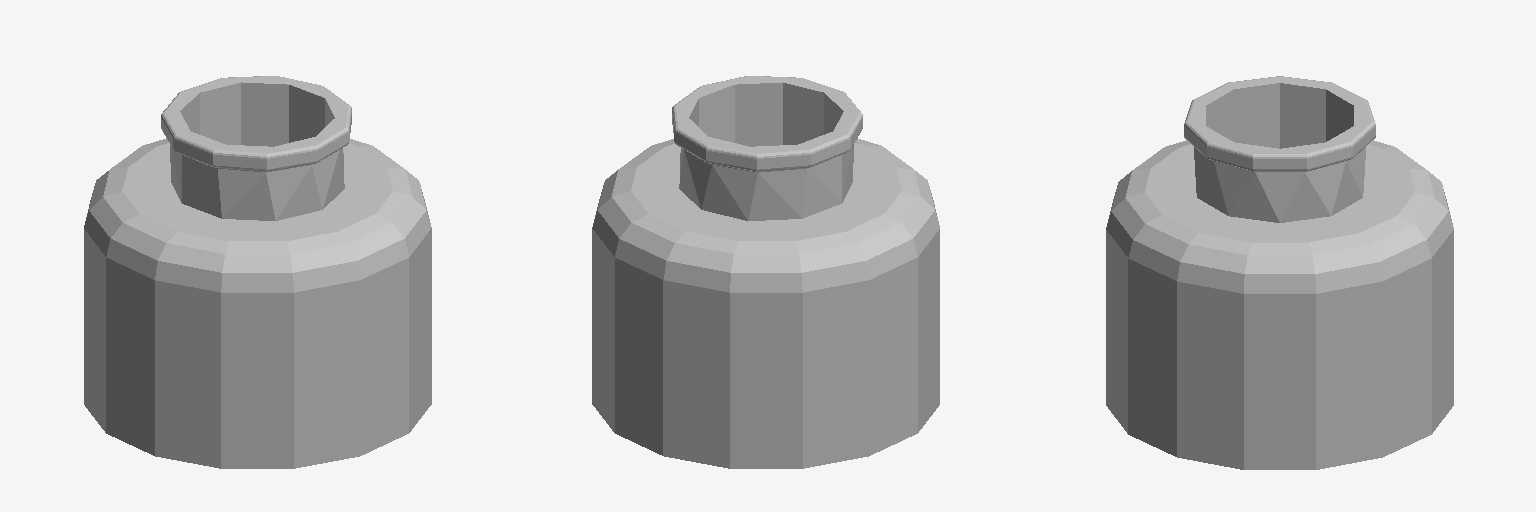
Rendered from Крышка.obj.
3 views of the same model, side by side, from view 1: azimuth 30°, elevation 25°; view 2: azimuth 150°, elevation 25°; view 3: azimuth 270°, elevation 25° (orthographic).
Parts seen in each view (by area): view 1: Крышка; view 2: Крышка; view 3: Крышка.
Part boxes in pixels (x1,y1,x2,y2): Крышка: (84, 76, 431, 468); Крышка: (592, 76, 939, 468); Крышка: (1106, 76, 1453, 469).
Size of the model in its own units: 8.9 by 8 by 8.95.